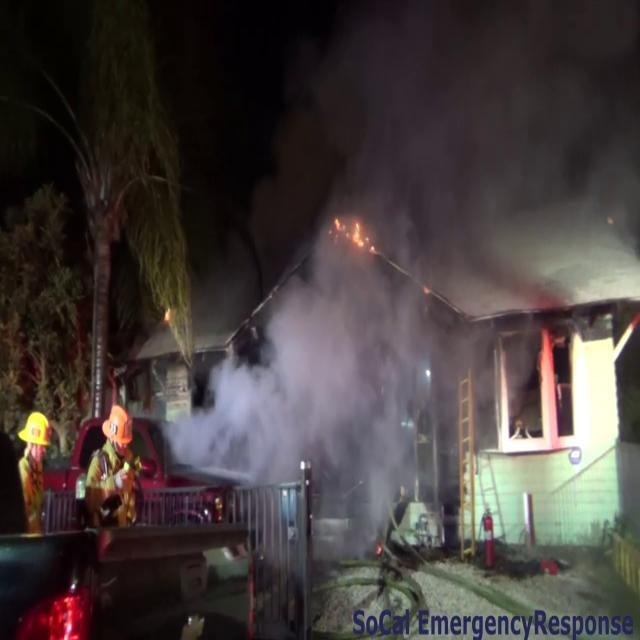Smoke: (186, 0, 638, 518)
